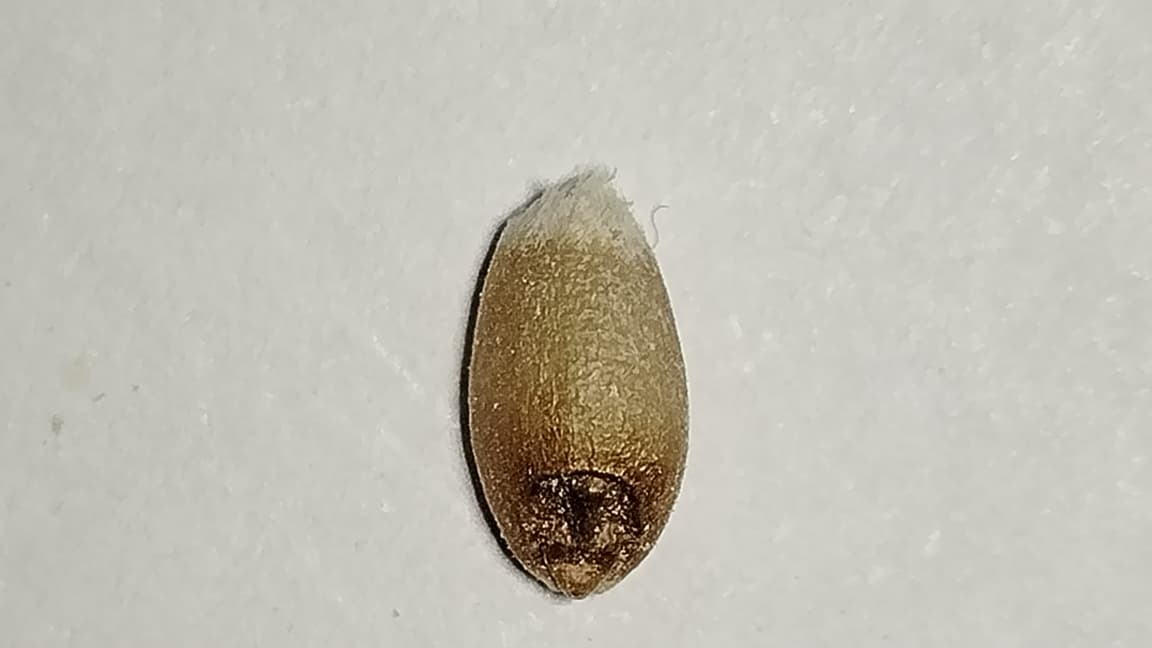damage: (469, 174, 687, 585)
staindamage: (469, 419, 650, 574)
